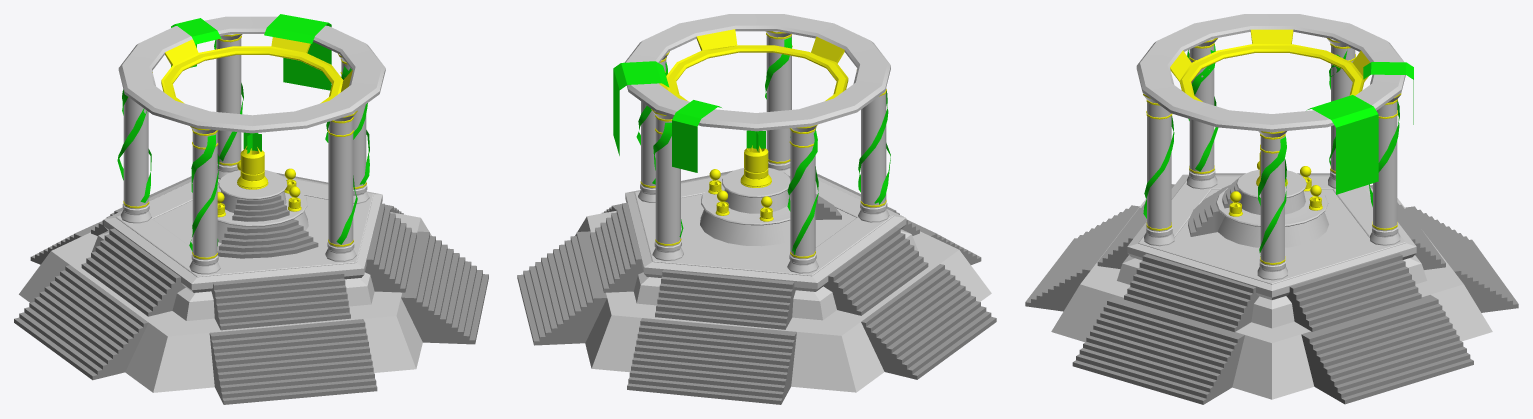
Rendered from saidan.fbx.
3 renders of one model, left to right at view 1: azimuth 30°, elevation 25°; view 2: azimuth 150°, elevation 25°; view 3: azimuth 270°, elevation 25°, orthographic.
Visible parts, largest first — view 1: ue1; view 2: ue1; view 3: ue1.
Part boxes in pixels (left/top/right/bottom): ue1: left=14, top=14, right=488, bottom=404; ue1: left=517, top=14, right=996, bottom=404; ue1: left=1025, top=14, right=1518, bottom=404.
Size of the model in its own units: 2327 by 1291 by 2440.
